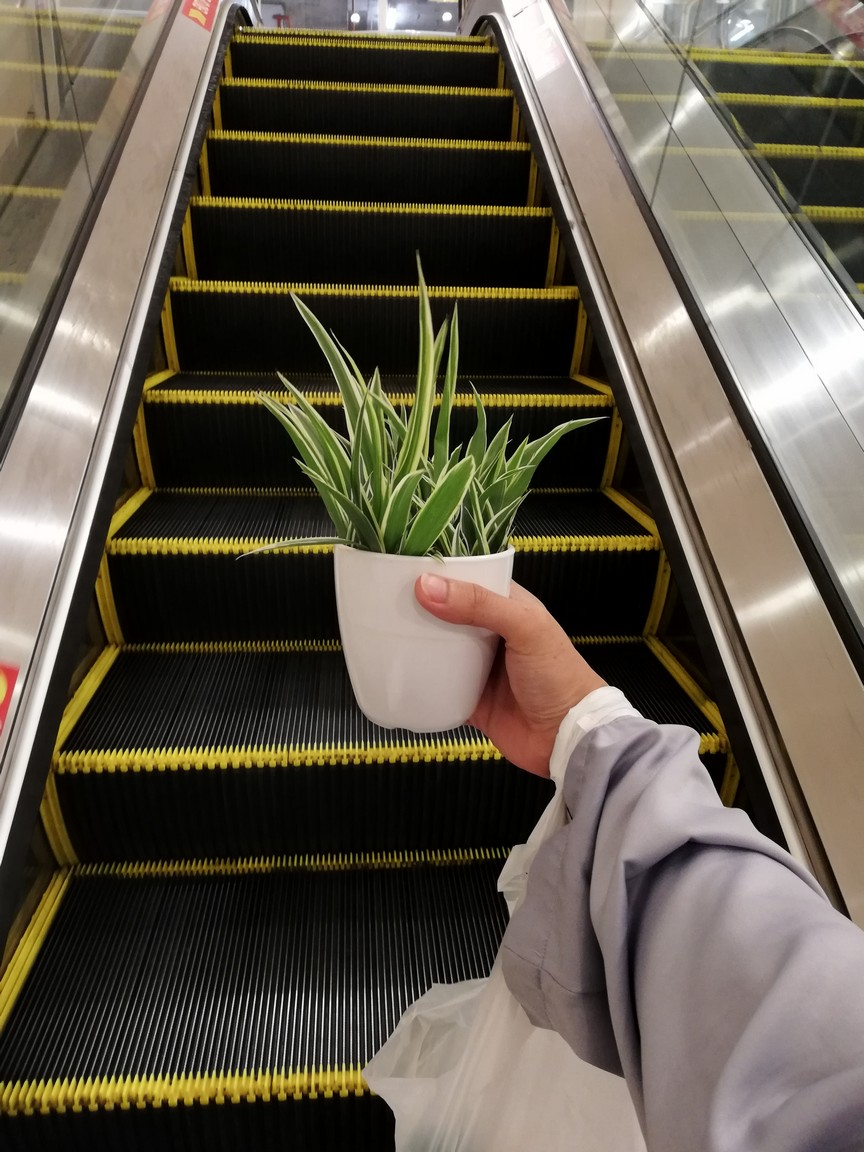daun: (285, 284, 332, 359), (414, 247, 434, 390), (234, 533, 332, 558), (438, 454, 476, 511), (447, 300, 460, 444), (247, 389, 288, 424), (330, 327, 358, 375), (468, 380, 487, 449), (394, 468, 429, 500), (489, 411, 516, 449), (275, 369, 306, 400), (494, 465, 538, 485), (571, 415, 613, 435), (434, 316, 449, 363), (285, 399, 309, 426), (259, 388, 287, 410), (464, 507, 481, 542), (511, 489, 533, 516), (511, 434, 531, 463), (427, 546, 449, 569), (501, 526, 519, 553), (289, 454, 308, 476), (449, 439, 465, 463), (362, 470, 375, 495), (397, 397, 408, 426), (372, 363, 382, 392)
